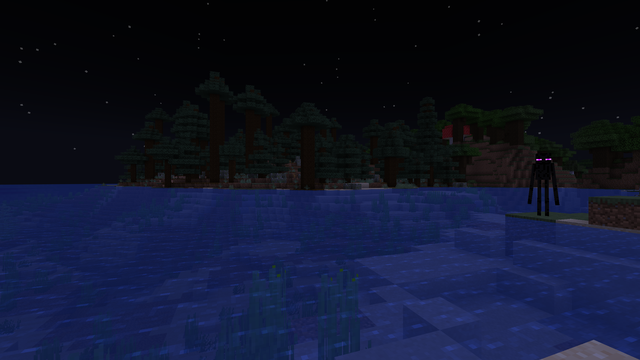endermens: (531, 150, 554, 216)
